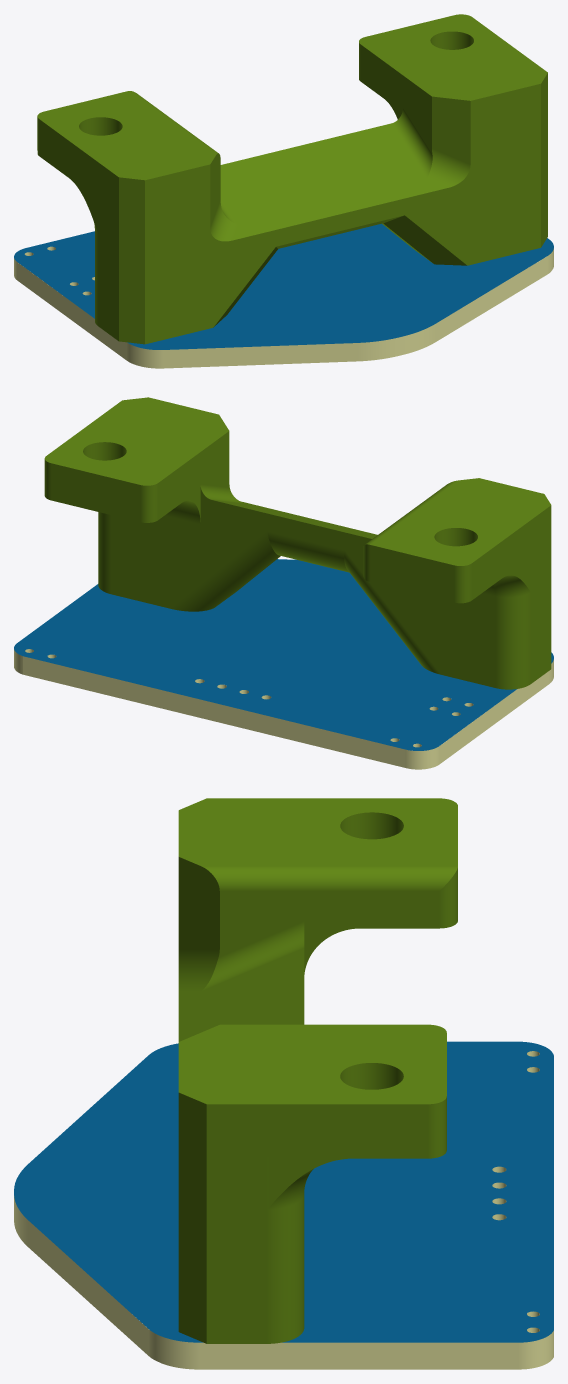
File: carto mount.glb
The picture shows the model from 3 angles, top to bottom: view 1: azimuth 30°, elevation 25°; view 2: azimuth 150°, elevation 25°; view 3: azimuth 270°, elevation 25°; orthographic projection. The views are drawn at different scales.
Size of the model in its own units: 0.0386 by 0.0157 by 0.0288.
